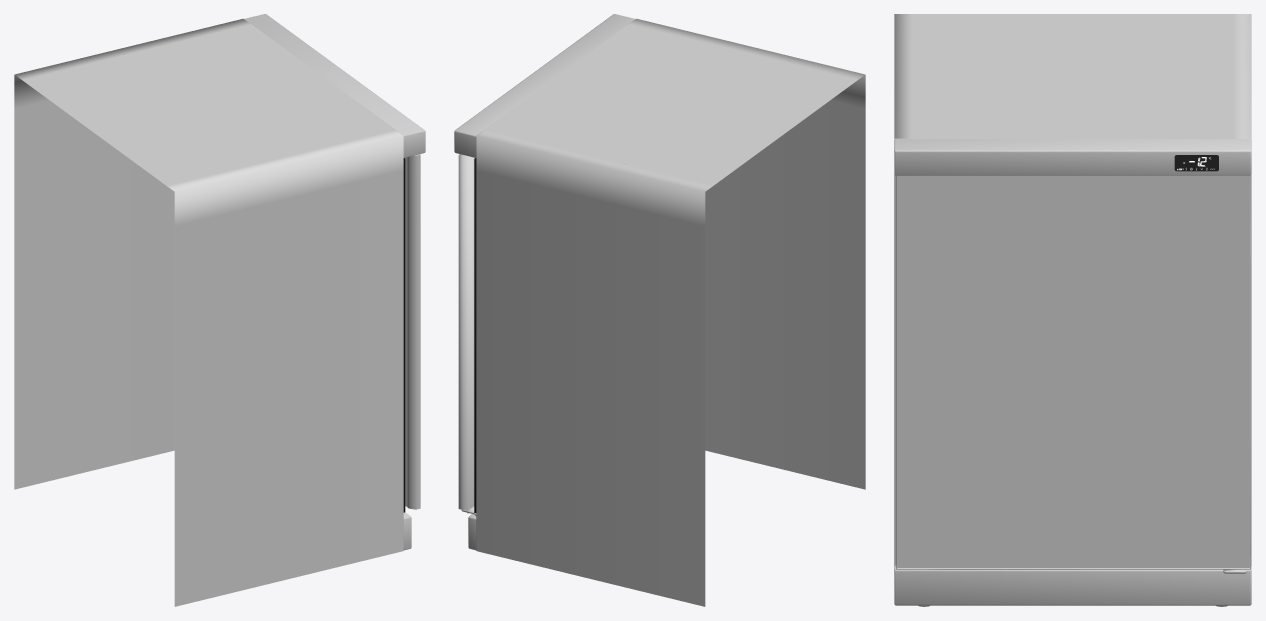
The model's file is fridge.fbx.
3 renders of one model, left to right at view 1: azimuth 30°, elevation 25°; view 2: azimuth 150°, elevation 25°; view 3: azimuth 270°, elevation 25°, orthographic. The views are drawn at different scales.
Visible parts, largest first — view 1: mf_39_fridge, mf_39_door.001; view 2: mf_39_fridge, mf_39_door.001; view 3: mf_39_door.001, mf_39_fridge, fridge_display_bc.
Boxes of the visible parts, left/top/right/bottom form: mf_39_fridge: left=14, top=14, right=425, bottom=606; mf_39_door.001: left=403, top=154, right=420, bottom=512; mf_39_fridge: left=454, top=14, right=865, bottom=606; mf_39_door.001: left=458, top=154, right=476, bottom=513; mf_39_door.001: left=896, top=175, right=1250, bottom=569; mf_39_fridge: left=894, top=14, right=1251, bottom=606; fridge_display_bc: left=1174, top=155, right=1218, bottom=171.
Size of the model in its own units: 47.62 by 76.48 by 52.54.
